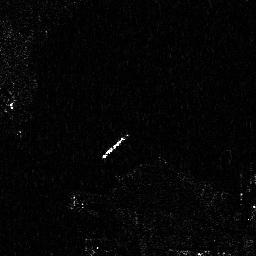ship: (101, 133, 130, 158)
